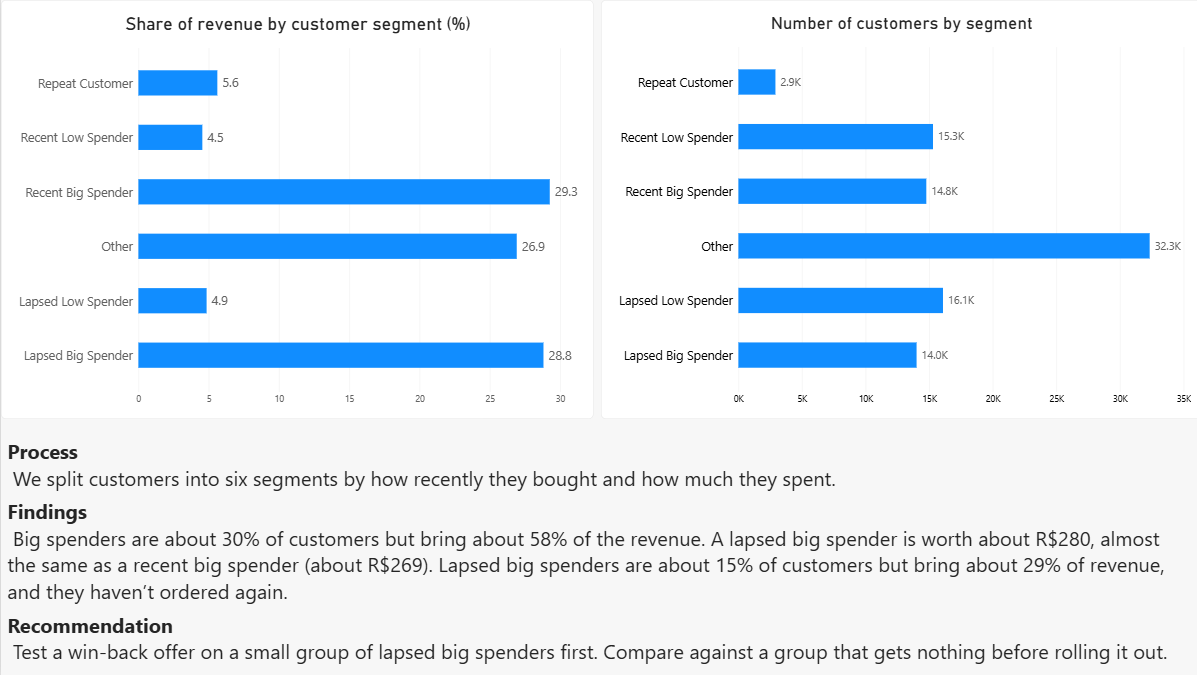

Layout of this report page (visuals, bound fields, positions):
{"tool":"powerbi","page":{"name":"Page 2","canvas":[1920,1080],"ordinal":1},"visuals":[{"type":"clusteredBarChart","title":"Share of revenue by customer segment (%)","fields":{"Category":["rfm_summary.Segment"],"Y":["Sum(rfm_summary.revenue_pct)"]},"box":[0,0,948.2,670.7],"z":0},{"type":"clusteredBarChart","title":"Number of customers by segment","fields":{"Category":["rfm_summary.Segment"],"Y":["Sum(rfm_summary.customers)"]},"box":[959.1,0,961.3,670.7],"z":1000},{"type":"textbox","box":[10.9,699.1,1356.8,96.1],"z":2000},{"type":"textbox","box":[10.9,795.3,1887.7,183.5],"z":3000},{"type":"textbox","box":[288.4,581.2,111.4,118],"z":4000},{"type":"textbox","box":[10.9,978.8,1887.7,100.5],"z":4001}]}

Visuals, with their boxes in screenshot pixels (x1, y1, x2, y2), scaled from the page's 1920x1080 canvas onto the 1197x675 screenshot:
"Share of revenue by customer segment (%)" clusteredBarChart: 0/0/591/419
"Number of customers by segment" clusteredBarChart: 598/0/1196/419
textbox: 7/437/853/497
textbox: 7/497/1184/612
textbox: 180/363/249/437
textbox: 7/612/1184/674
